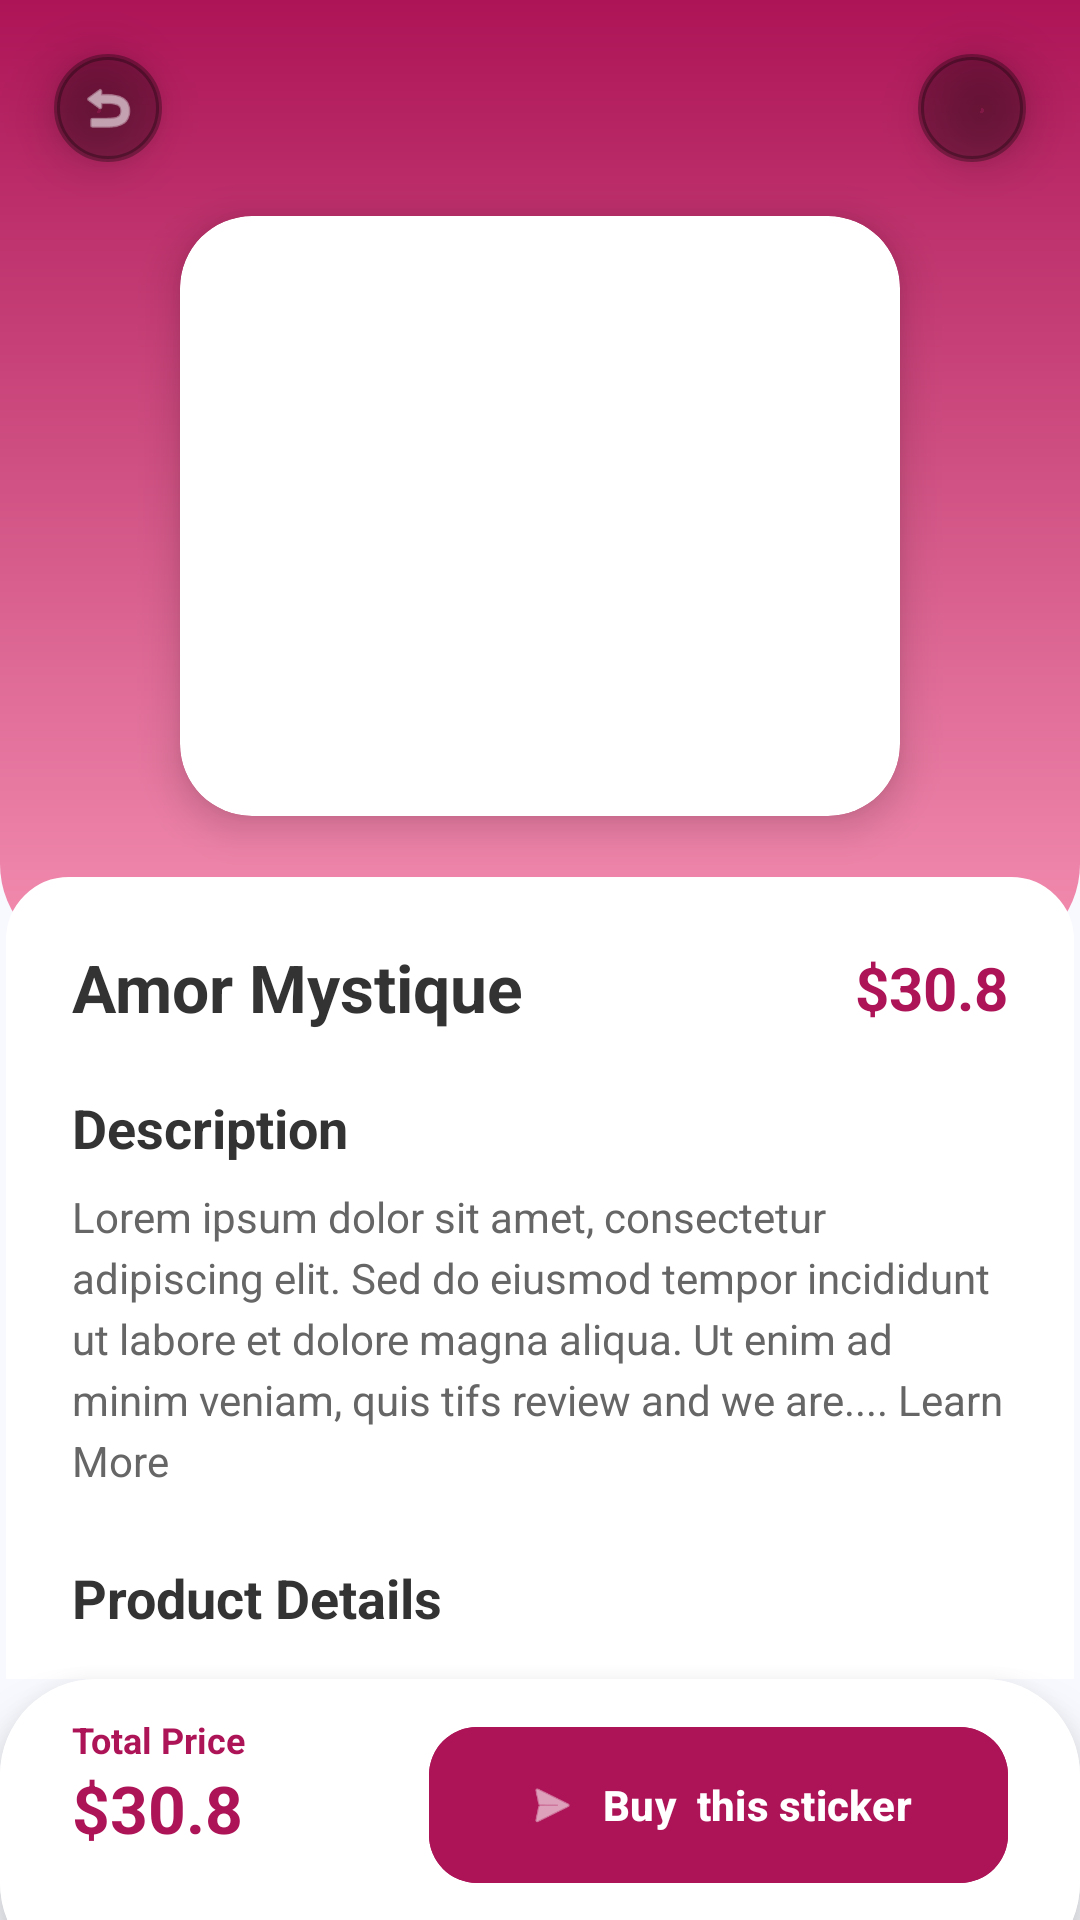

Where icons sit on this 1080w x 1920h app screen, as [x1=x1, y1=y1, x2=x2, y2=y2]:
revert: [x1=54, y1=54, x2=162, y2=162]
